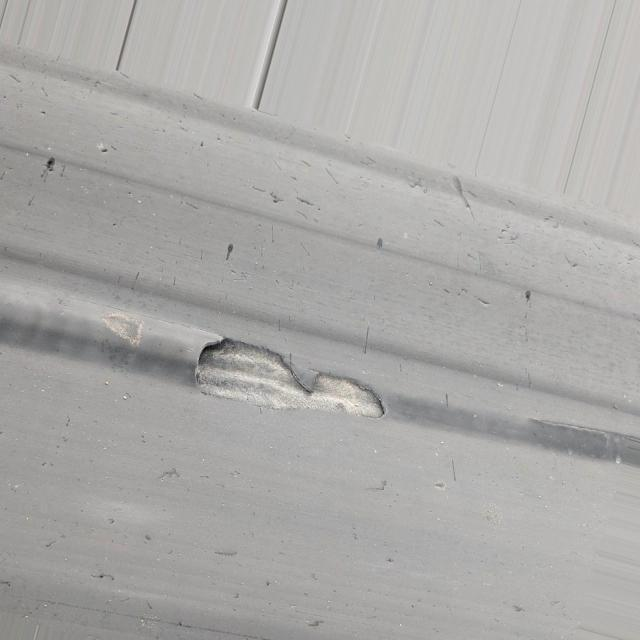Impact Damage: (193, 314, 400, 440)
Puncture: (40, 150, 60, 176), (519, 286, 536, 303)
